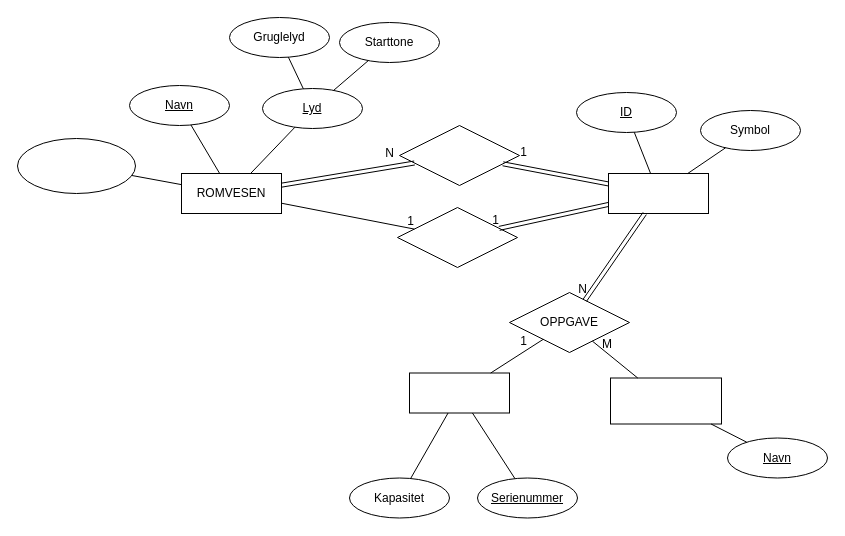
Some shapes in this 845 by 536 pixel diagram are drawn without their labels. The centre of each missing label's shape, as x and y in pixels:
FUNKSJON: (666,400)
GRUPPE: (658,193)
GRUPPELEDER: (457,237)
I_GRUPPE: (459,155)
ROMSKIP: (459,392)
TekstligBeskrivelse: (76,166)
